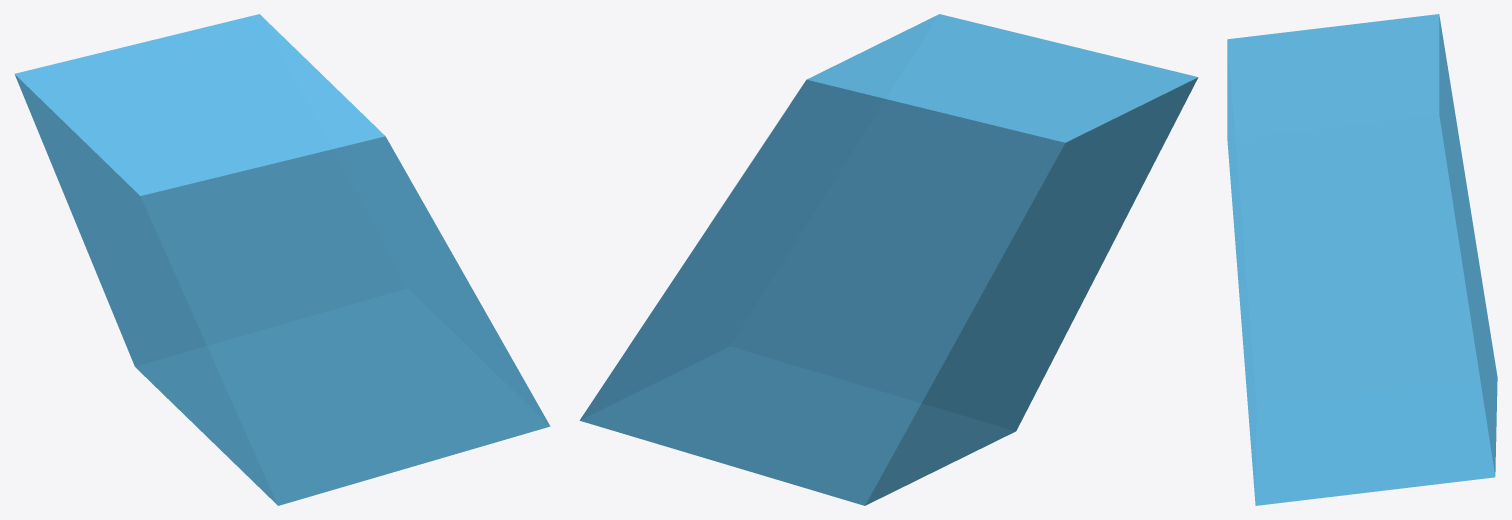
File: Event_420107950_HBrechit_23.fbx
3 renders of one model, left to right at view 1: azimuth 30°, elevation 25°; view 2: azimuth 150°, elevation 25°; view 3: azimuth 270°, elevation 25°, orthographic. The views are drawn at different scales.
Parts seen in each view (by area): view 1: Model; view 2: Model; view 3: Model.
Part boxes in pixels (x1,y1,x2,y2): Model: [14, 14, 550, 505]; Model: [579, 14, 1198, 505]; Model: [1227, 14, 1497, 505].
Bounding box in the file's own units: 0.7789 × 0.6809 × 0.5078.
